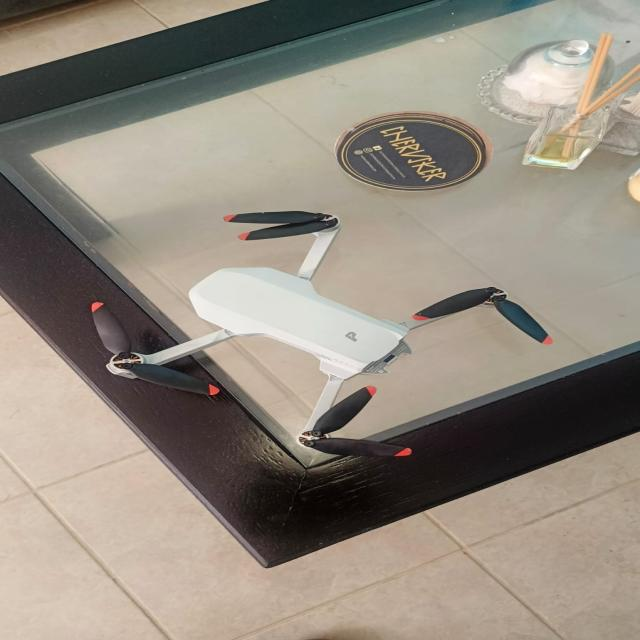dron: (36, 192, 556, 478)
